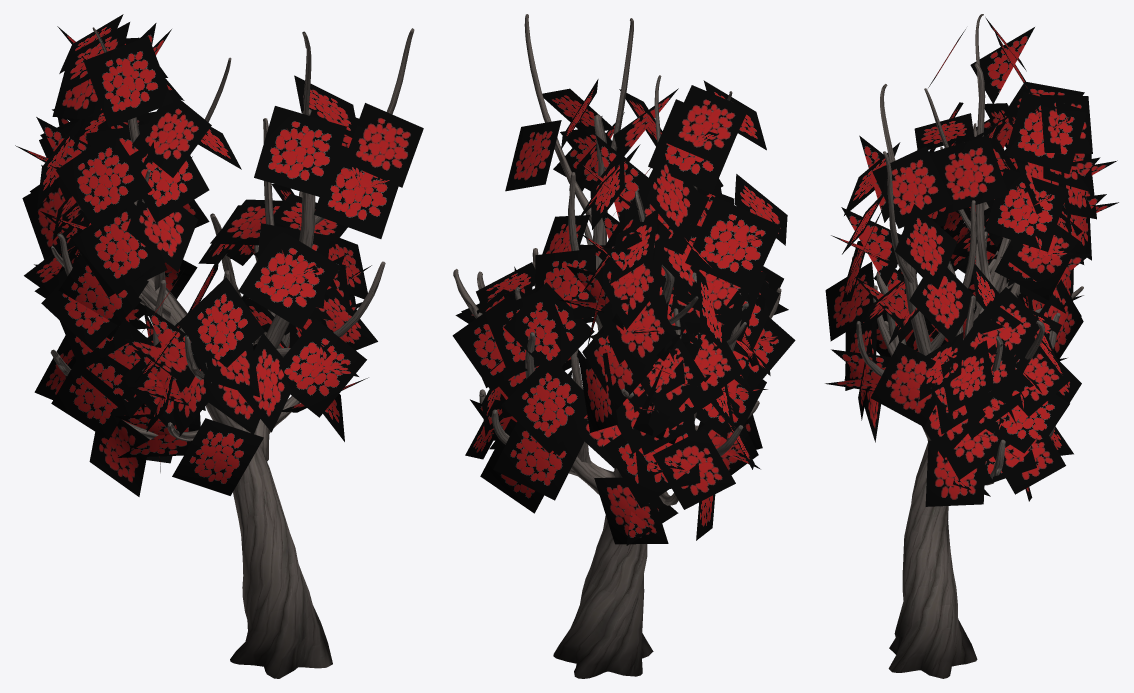
File: twistedtree_2_lod2.glb
The picture shows the model from 3 angles, left to right: view 1: azimuth 30°, elevation 25°; view 2: azimuth 150°, elevation 25°; view 3: azimuth 270°, elevation 25°; orthographic projection. The views are drawn at different scales.
Visible parts, largest first — view 1: TwistedTree_2; view 2: TwistedTree_2; view 3: TwistedTree_2.
Part boxes in pixels (x1=…): TwistedTree_2: x1=15, y1=14, x2=423, y2=678; TwistedTree_2: x1=452, y1=14, x2=795, y2=678; TwistedTree_2: x1=825, y1=14, x2=1118, y2=678.
Size of the model in its own units: 9.42 by 17.81 by 8.27.
Materials: 2 (2 with a texture image).
